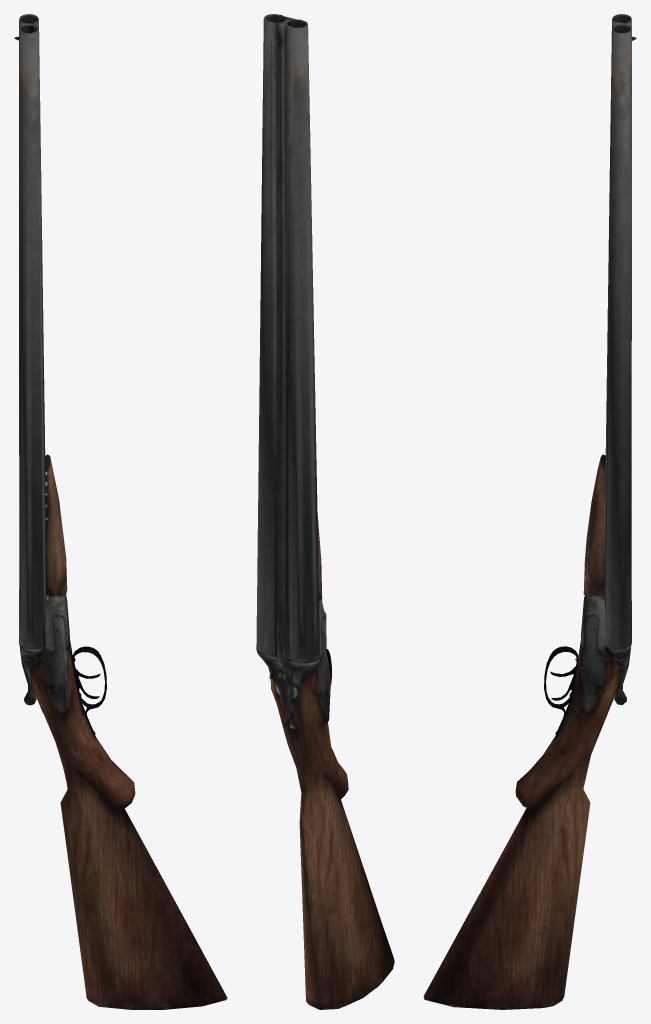
File: DoubleBarrelShotgun.fbx
3 renders of one model, left to right at view 1: azimuth 90°, elevation 25°; view 2: azimuth 150°, elevation 25°; view 3: azimuth 270°, elevation 25°, orthographic. The views are drawn at different scales.
Parts seen in each view (by area): view 1: DoubleBarrelShotgun; view 2: DoubleBarrelShotgun; view 3: DoubleBarrelShotgun.
Part boxes in pixels (box(x1,y1,x2,y2)): DoubleBarrelShotgun: box(14, 14, 227, 1009); DoubleBarrelShotgun: box(256, 14, 394, 1009); DoubleBarrelShotgun: box(423, 14, 636, 1009).
Bounding box in the file's own units: 0.0412 × 0.6564 × 0.1297.
